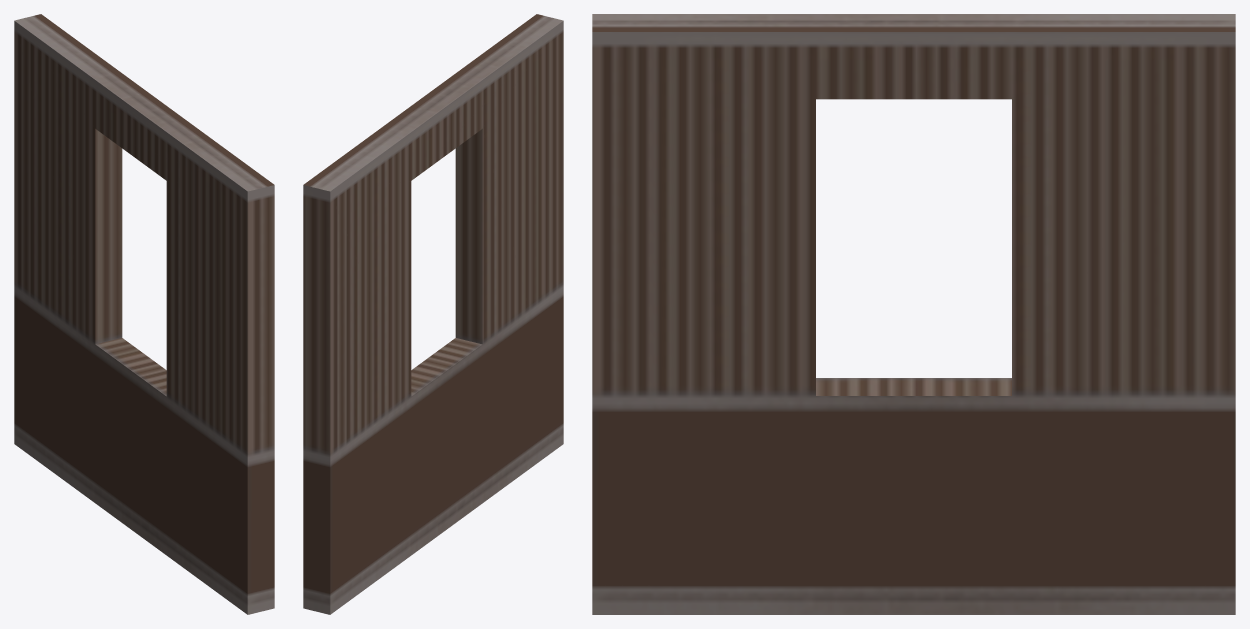
File: WallBig_Window.fbx
The picture shows the model from 3 angles, left to right: view 1: azimuth 30°, elevation 25°; view 2: azimuth 150°, elevation 25°; view 3: azimuth 270°, elevation 25°; orthographic projection. The views are drawn at different scales.
Visible parts, largest first — view 1: WallBig_Window; view 2: WallBig_Window; view 3: WallBig_Window.
Part boxes in pixels (x1,y1,x2,y2): WallBig_Window: (14,14,274,614); WallBig_Window: (303,14,563,614); WallBig_Window: (592,14,1235,614).
Bounding box in the file's own units: 300 × 20 × 300.
